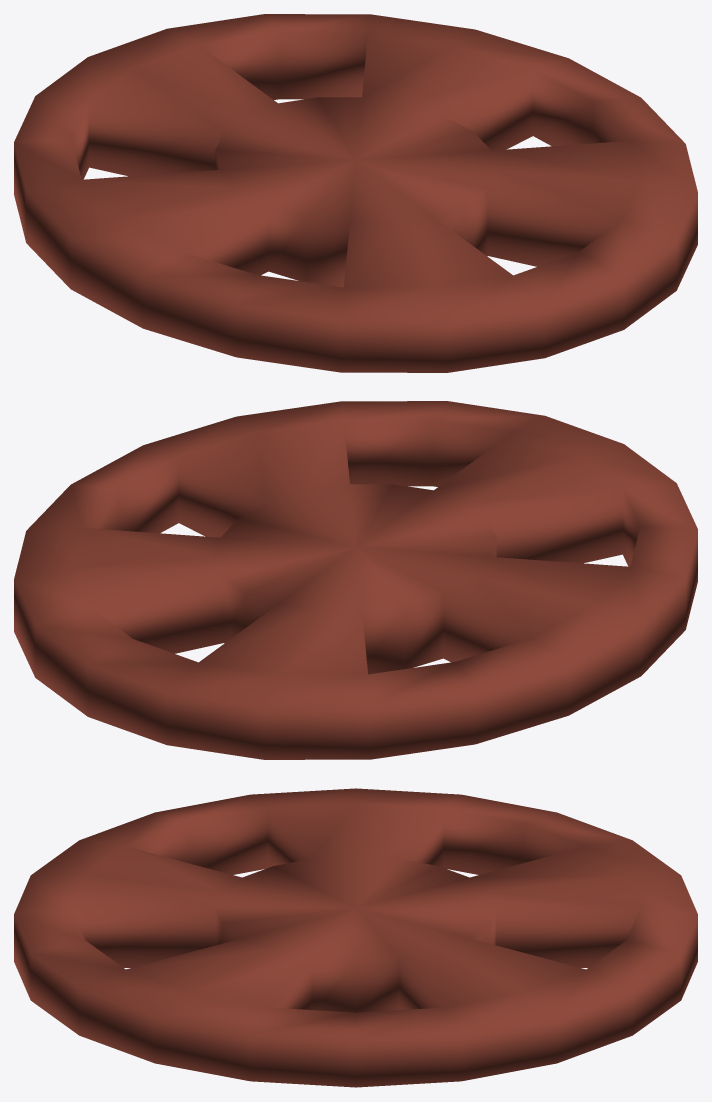
The model's file is SM_TomatoSlice1.fbx.
The picture shows the model from 3 angles, top to bottom: view 1: azimuth 30°, elevation 25°; view 2: azimuth 150°, elevation 25°; view 3: azimuth 270°, elevation 25°; orthographic projection. The views are drawn at different scales.
Parts seen in each view (by area): view 1: TomatoSlice1; view 2: TomatoSlice1; view 3: TomatoSlice1.
Boxes of the visible parts, bbox=[...] form: TomatoSlice1: bbox=[14, 14, 697, 372]; TomatoSlice1: bbox=[14, 401, 697, 759]; TomatoSlice1: bbox=[14, 788, 697, 1087].
Size of the model in its own units: 7.85 by 0.8737 by 9.02.
